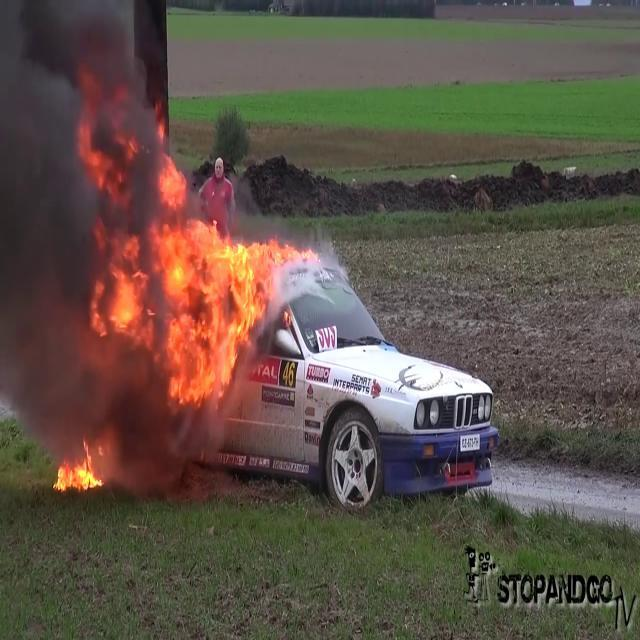Fire: (96, 184, 286, 404), (49, 442, 109, 498)
Smoke: (0, 0, 164, 484)
